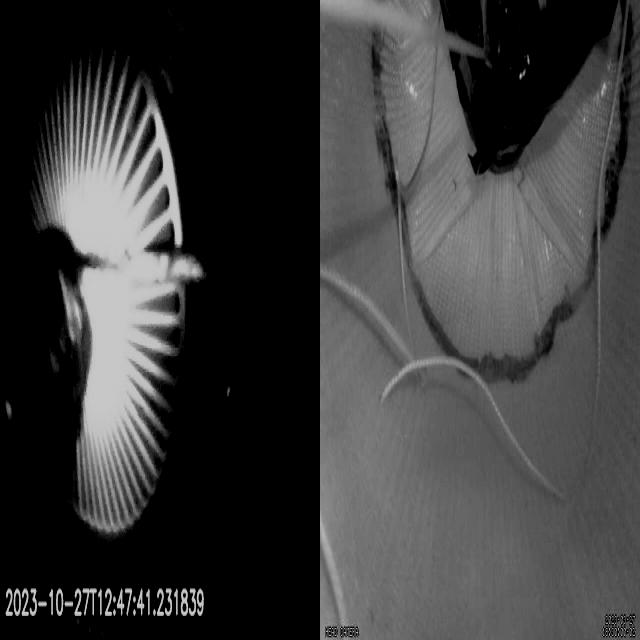red-circle: (371, 1, 634, 383)
